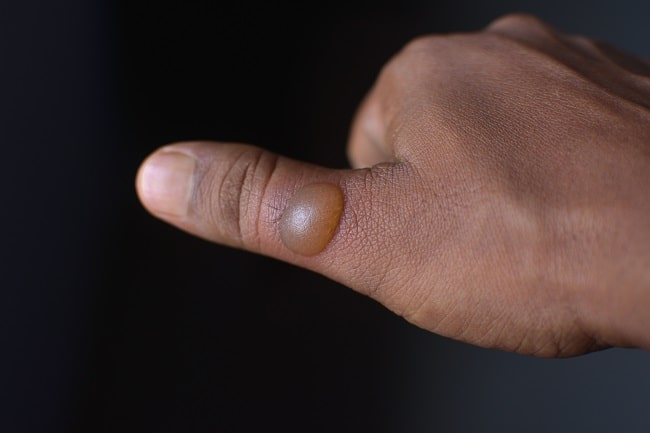Luka Bakar: (265, 177, 362, 263), (276, 176, 340, 249), (287, 186, 349, 255)
